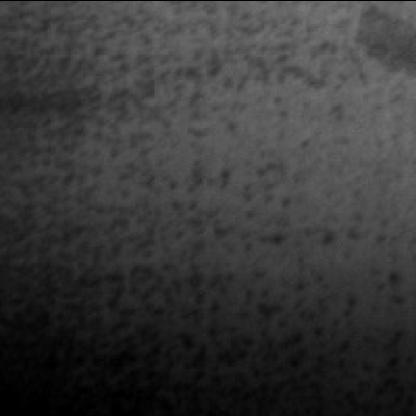pitted_surface: (8, 4, 410, 408)
